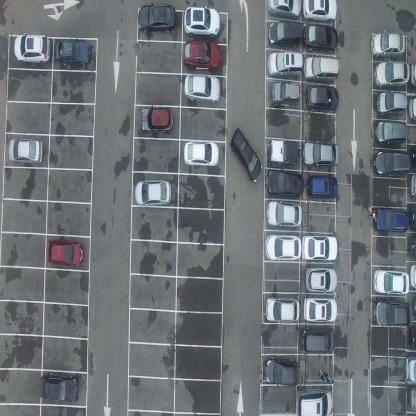car: (228, 127, 262, 182), (40, 370, 78, 403), (182, 39, 220, 72), (138, 2, 176, 34), (265, 168, 304, 198), (184, 6, 220, 38), (183, 74, 221, 104), (264, 355, 300, 386), (14, 34, 51, 64), (296, 386, 333, 416), (46, 238, 84, 267), (134, 178, 172, 207), (372, 149, 409, 178), (304, 23, 338, 54), (55, 38, 91, 67), (374, 60, 410, 89), (305, 83, 339, 113), (184, 138, 219, 167), (304, 55, 339, 84), (301, 325, 336, 354), (265, 232, 301, 260), (302, 234, 338, 262), (268, 50, 303, 78), (7, 138, 43, 165), (303, 140, 339, 167), (373, 268, 409, 295), (374, 299, 410, 326), (374, 119, 408, 147), (370, 32, 405, 59), (266, 201, 302, 227), (306, 172, 338, 201), (304, 295, 338, 322), (268, 22, 303, 48), (305, 266, 338, 293), (375, 206, 408, 233), (140, 106, 174, 132), (266, 296, 300, 322), (376, 90, 407, 118), (269, 138, 300, 165), (271, 80, 302, 106), (267, 0, 301, 22), (302, 0, 337, 21), (405, 353, 415, 384), (408, 233, 416, 260), (408, 262, 416, 289), (408, 386, 416, 412), (408, 94, 416, 119), (408, 144, 416, 169), (409, 203, 416, 229), (410, 173, 416, 199), (410, 325, 416, 351), (410, 62, 416, 86), (412, 294, 416, 320)
